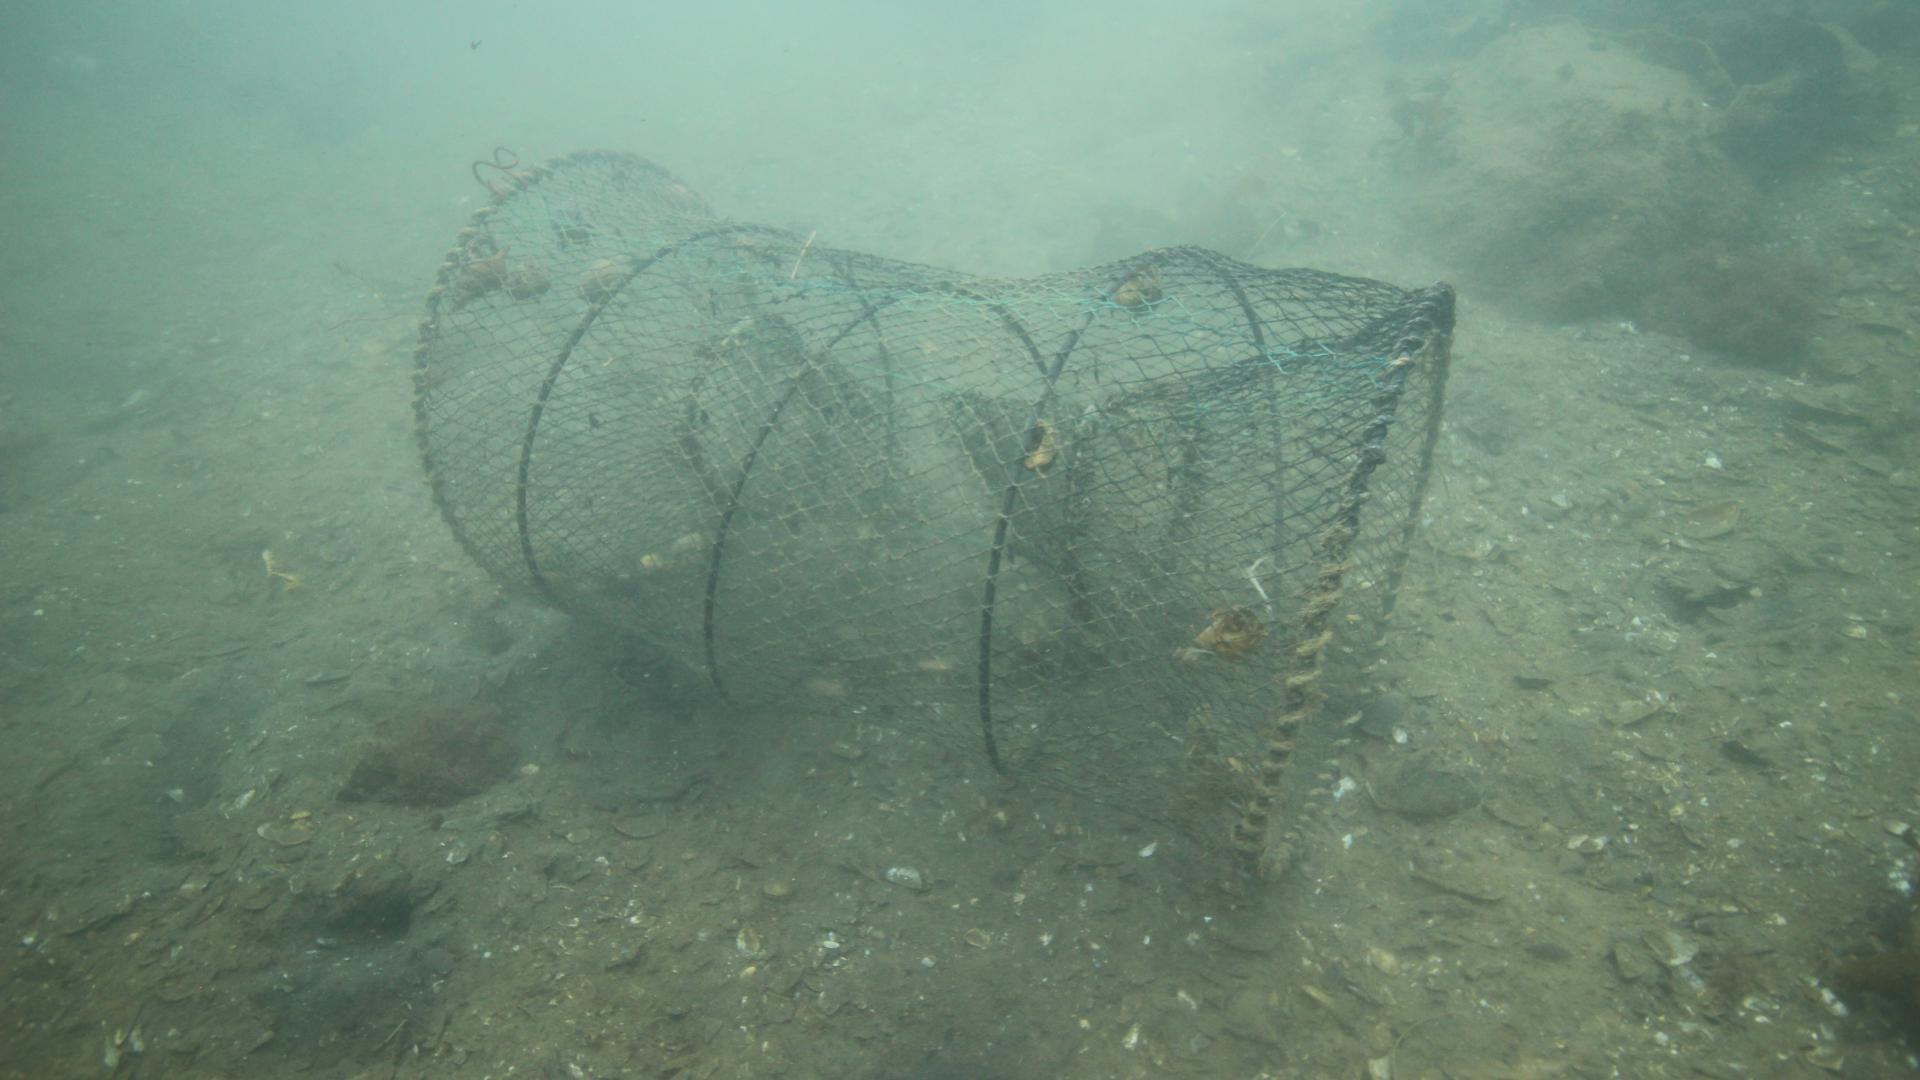spring fish trap: (409, 145, 1457, 886)
